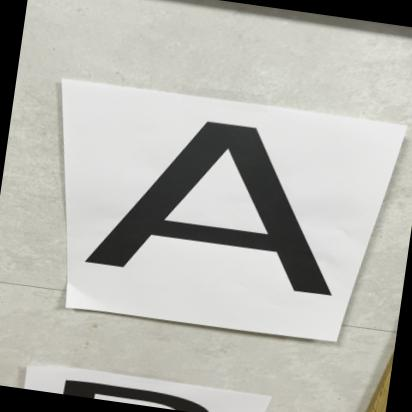seat: (60, 89, 368, 334)
